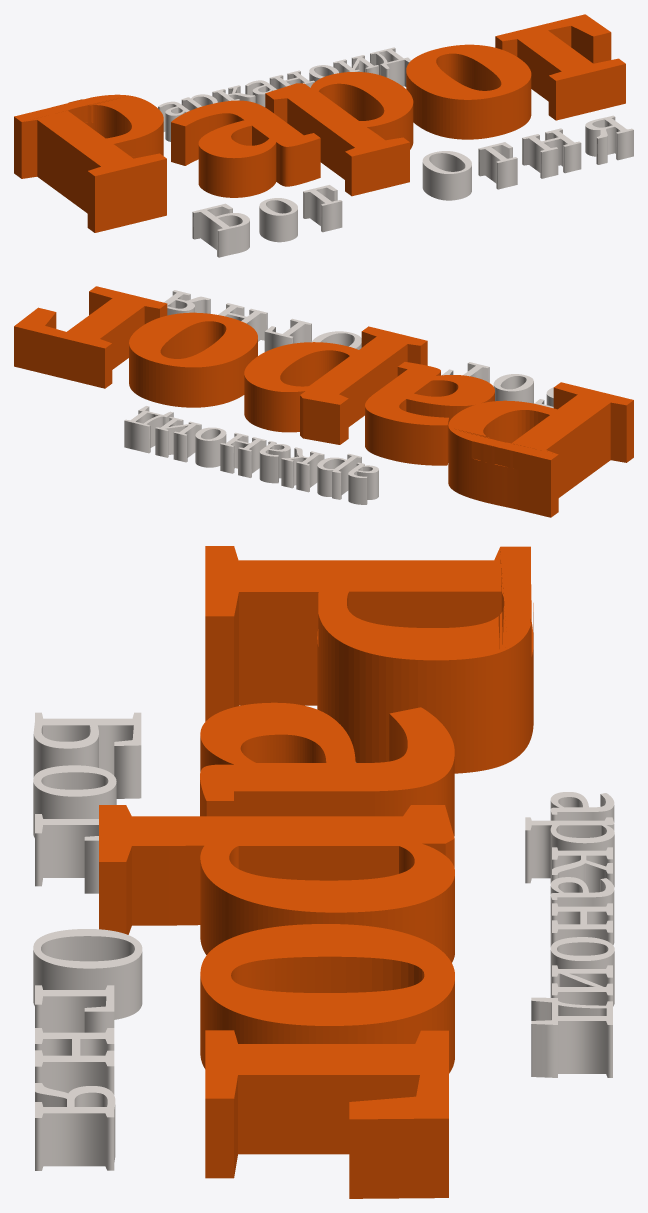
The model's file is shield_yar.glb.
The picture shows the model from 3 angles, top to bottom: view 1: azimuth 30°, elevation 25°; view 2: azimuth 150°, elevation 25°; view 3: azimuth 270°, elevation 25°; orthographic projection. The views are drawn at different scales.
Visible parts, largest first — view 1: Ragor.P, Ragor.p, Ragor.a, Ragor.o, Ragor.G, GodFire.fire, GodFire.god, Arcanoid; view 2: Ragor.P, Ragor.p, Ragor.o, Arcanoid, Ragor.G, Ragor.a, GodFire.fire, GodFire.god; view 3: Ragor.P, Ragor.p, Ragor.G, Ragor.o, Ragor.a, GodFire.fire, Arcanoid, GodFire.god.
Boxes of the visible parts, x1,y1,x2,y2 form: Ragor.P: (14,94,166,232); Ragor.p: (265,72,413,196); Ragor.a: (171,100,320,197); Ragor.o: (406,44,531,139); Ragor.G: (495,14,625,120); GodFire.fire: (422,115,633,200); GodFire.god: (192,185,342,257); Arcanoid: (158,47,410,141); Ragor.P: (448,382,633,517); Ragor.p: (244,326,427,444); Ragor.o: (129,312,257,407); Arcanoid: (124,406,378,504); Ragor.G: (14,286,167,388); Ragor.a: (365,362,494,465); GodFire.fire: (164,290,361,351); GodFire.god: (442,362,553,408); Ragor.P: (205,546,533,773); Ragor.p: (99,805,454,962); Ragor.G: (205,1030,448,1198); Ragor.o: (200,924,454,1073); Ragor.a: (200,702,454,836); GodFire.fire: (33,929,142,1170); Arcanoid: (525,792,614,1077); GodFire.god: (33,712,141,893).
Size of the model in its own units: 8.72 by 1.06 by 3.98.
